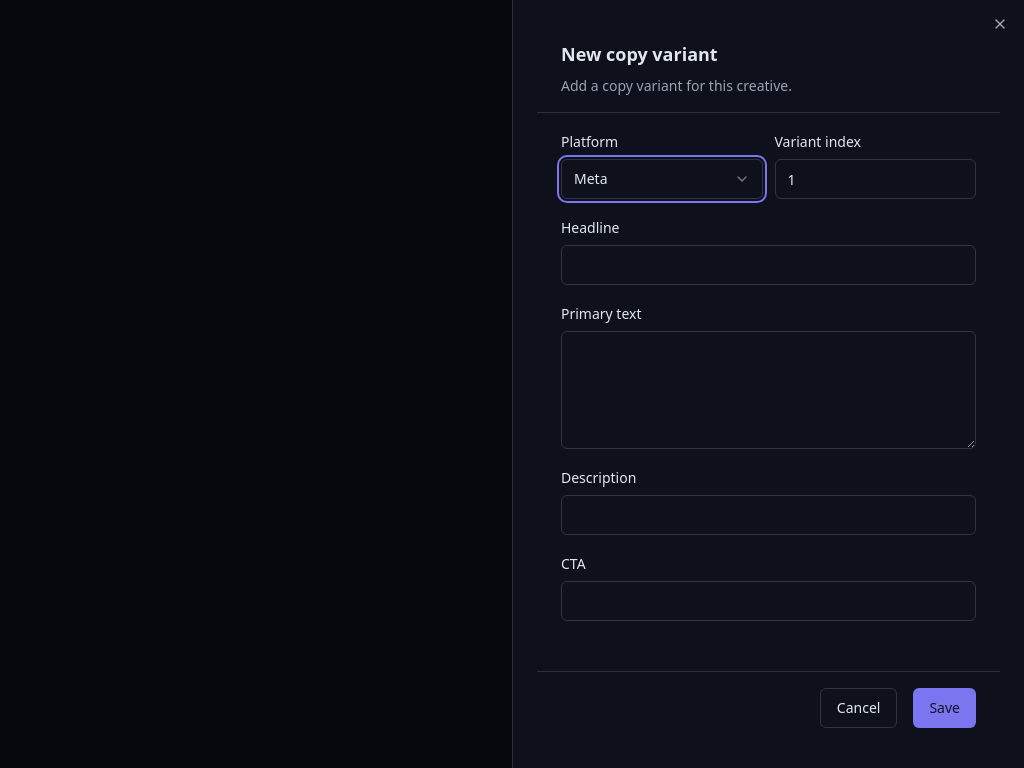
Test: CopyEditorDrawer › blocks submit on an out-of-range variant index
This screenshot has width=1024, height=768.
Replace the text in the field labelled "Variant index" with "0" at (875, 179), box left=774, top=159, right=976, bottom=199
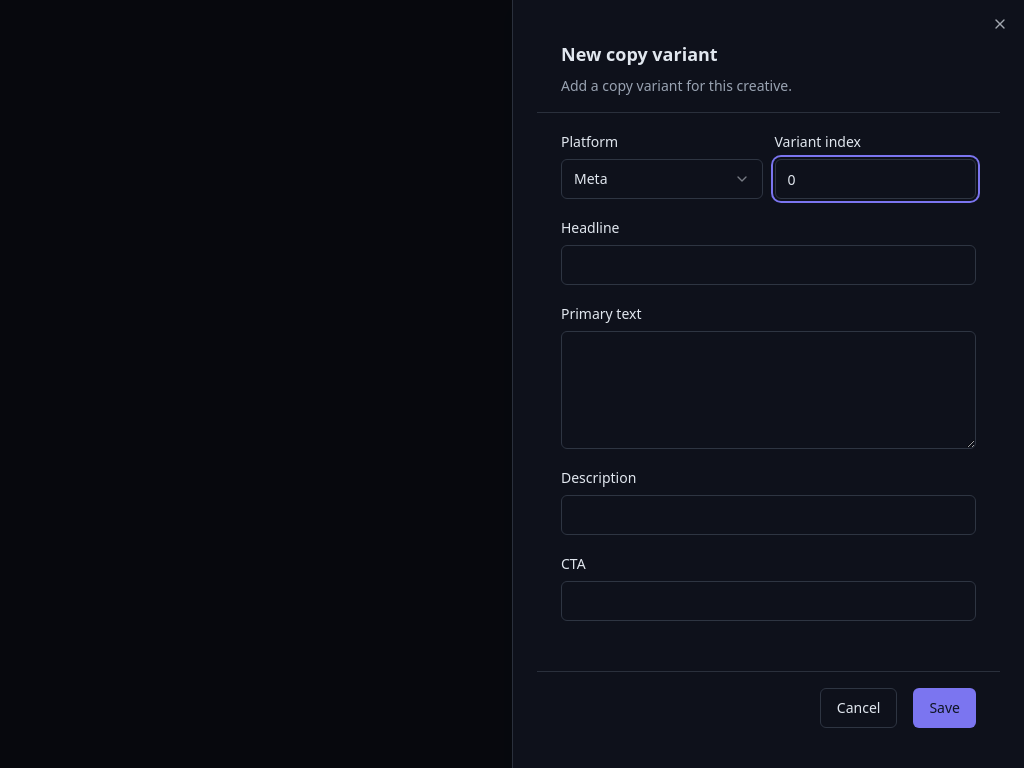
Click the button "Save" at (945, 708), box left=913, top=688, right=976, bottom=728
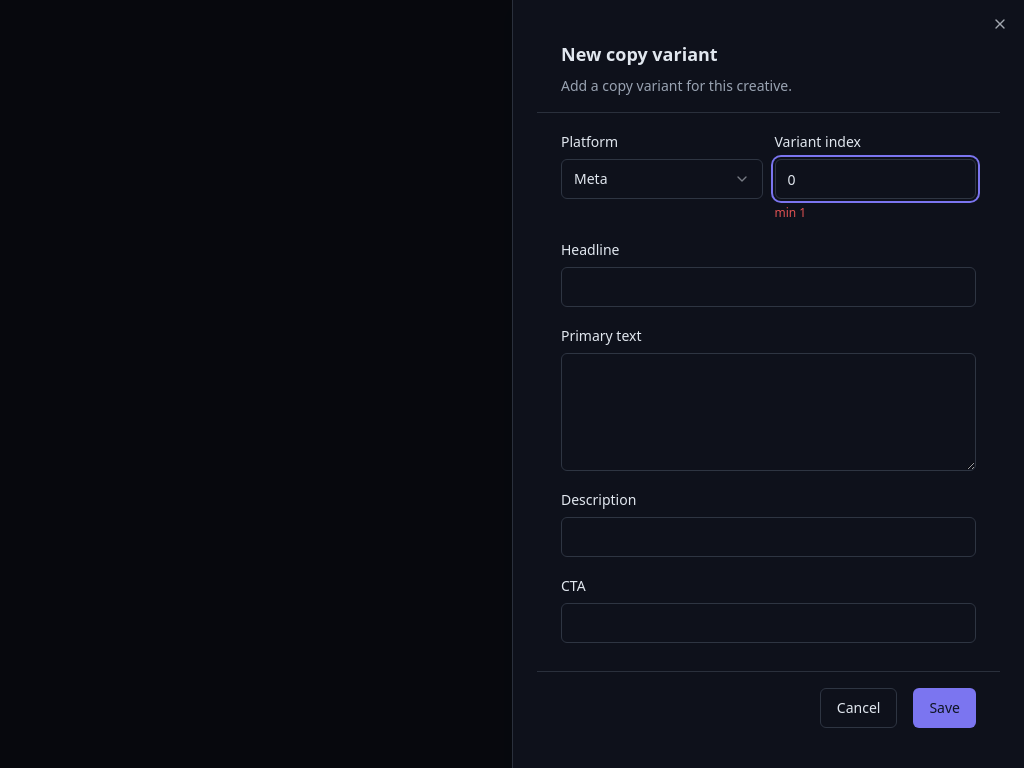
expect the text "min 1" is shown: met, box left=774, top=204, right=806, bottom=221
